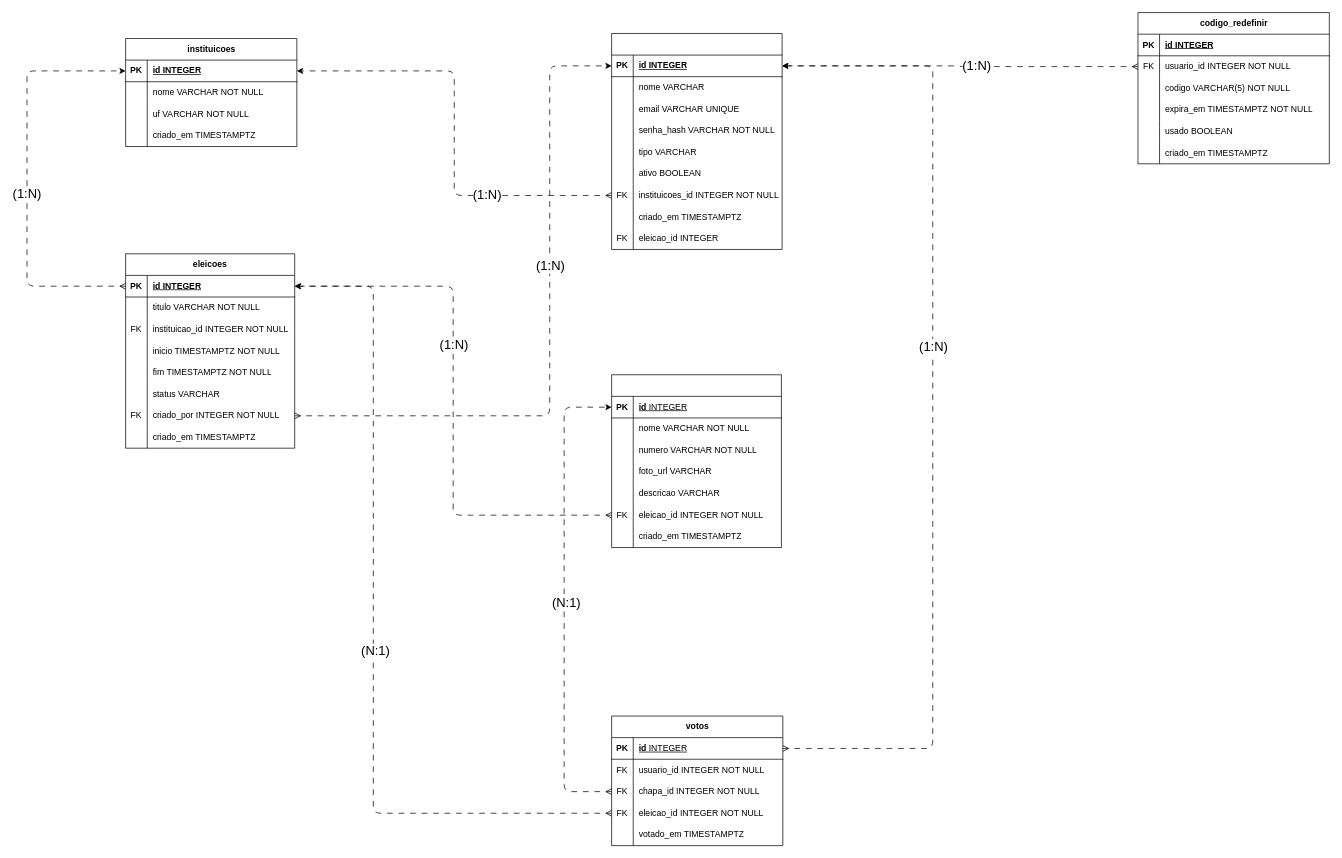
Some shapes in this 1342 by 858 pixel diagram are drawn without their labels. Each missing label, with the box of its shape:
chapas: (611, 374, 781, 548)
usuarios: (611, 33, 782, 249)
